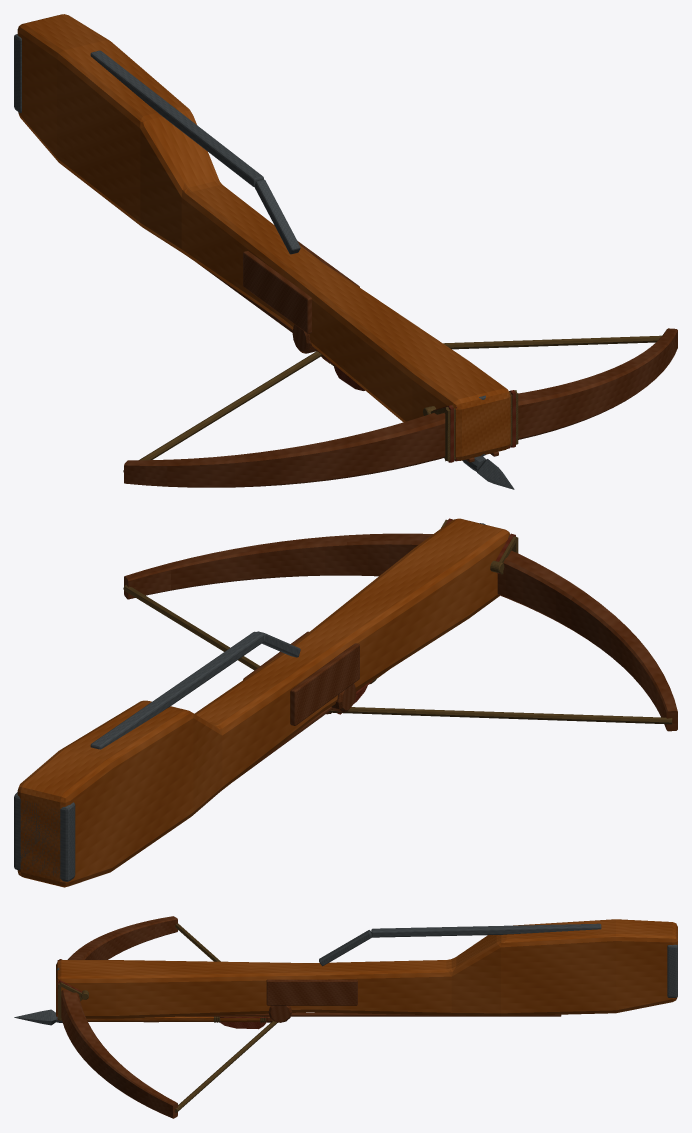
File: AuxiliaReinforcedCrossbowCocked.fbx
3 views of the same model, one above another, from view 1: azimuth 30°, elevation 25°; view 2: azimuth 150°, elevation 25°; view 3: azimuth 270°, elevation 25° (orthographic). The views are drawn at different scales.
Parts seen in each view (by area): view 1: AuxiliaReinforcedCrossbowCocked_GameExport; view 2: AuxiliaReinforcedCrossbowCocked_GameExport; view 3: AuxiliaReinforcedCrossbowCocked_GameExport.
Boxes of the visible parts, x1=… form: AuxiliaReinforcedCrossbowCocked_GameExport: x1=14, y1=14, x2=677, y2=489; AuxiliaReinforcedCrossbowCocked_GameExport: x1=14, y1=518, x2=677, y2=887; AuxiliaReinforcedCrossbowCocked_GameExport: x1=14, y1=916, x2=677, y2=1118.
Size of the model in its own units: 24.56 by 36.4 by 6.28.
